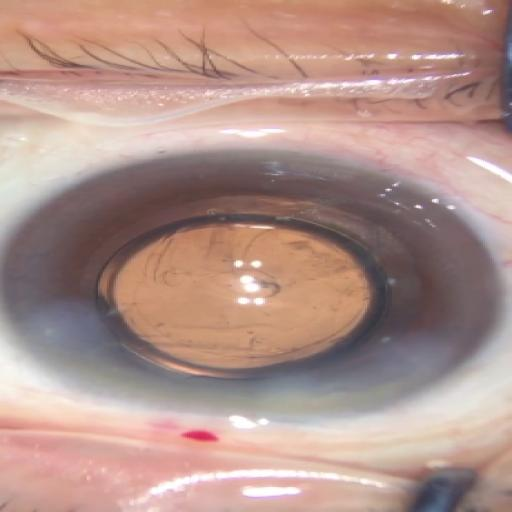cornea: (2, 151, 498, 421)
pupil: (91, 217, 387, 377)
